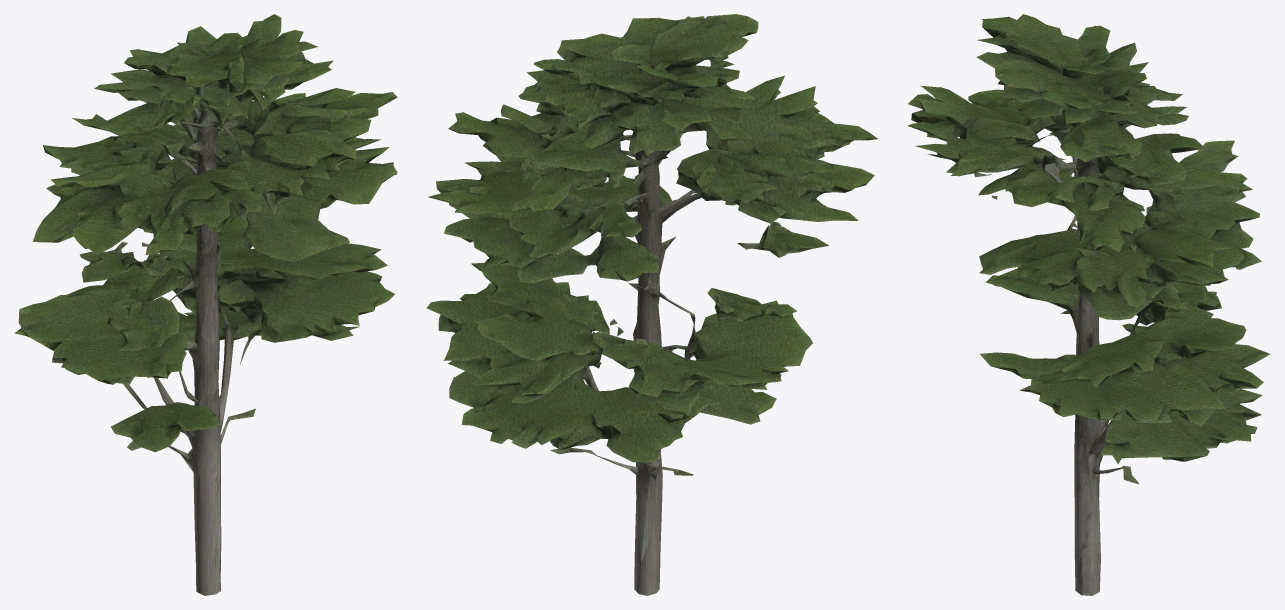
Rendered from tree-cypress-r3.glb.
3 views of the same model, side by side, from view 1: azimuth 30°, elevation 25°; view 2: azimuth 150°, elevation 25°; view 3: azimuth 270°, elevation 25° (orthographic). The views are drawn at different scales.
Parts seen in each view (by area): view 1: Mesh; view 2: Mesh; view 3: Mesh.
Boxes of the visible parts, x1,y1,x2,y2 form: Mesh: (14, 14, 397, 595); Mesh: (426, 14, 877, 595); Mesh: (907, 14, 1270, 595).
Bounding box in the file's own units: 1.28 × 1.76 × 1.06.
Materials: 1 (1 with a texture image).
